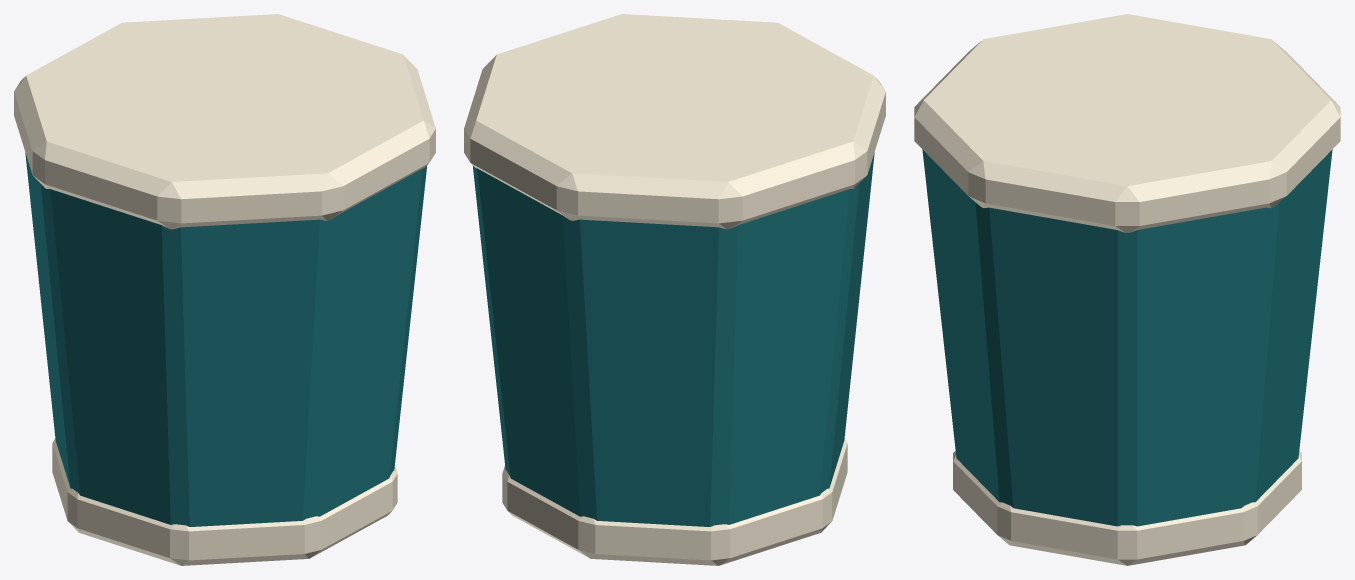
File: small_waste_bin.glb
3 renders of one model, left to right at view 1: azimuth 30°, elevation 25°; view 2: azimuth 150°, elevation 25°; view 3: azimuth 270°, elevation 25°, orthographic.
Parts seen in each view (by area): view 1: small_waste_bin; view 2: small_waste_bin; view 3: small_waste_bin.
Part boxes in pixels (x1=…): small_waste_bin: x1=14, y1=14, x2=435, y2=565; small_waste_bin: x1=464, y1=14, x2=885, y2=565; small_waste_bin: x1=914, y1=14, x2=1340, y2=565.
Size of the model in its own units: 0.3223 by 0.33 by 0.3223.
